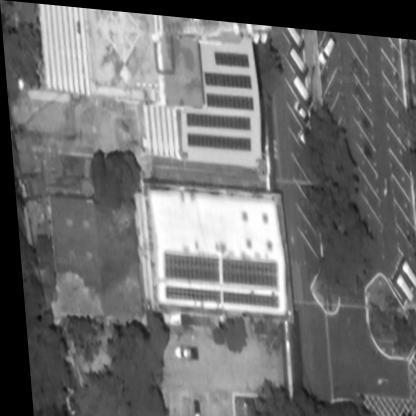solar-pv-panel: (185, 110, 249, 126), (185, 130, 249, 146), (205, 91, 252, 106), (204, 69, 251, 83), (214, 49, 249, 63)
